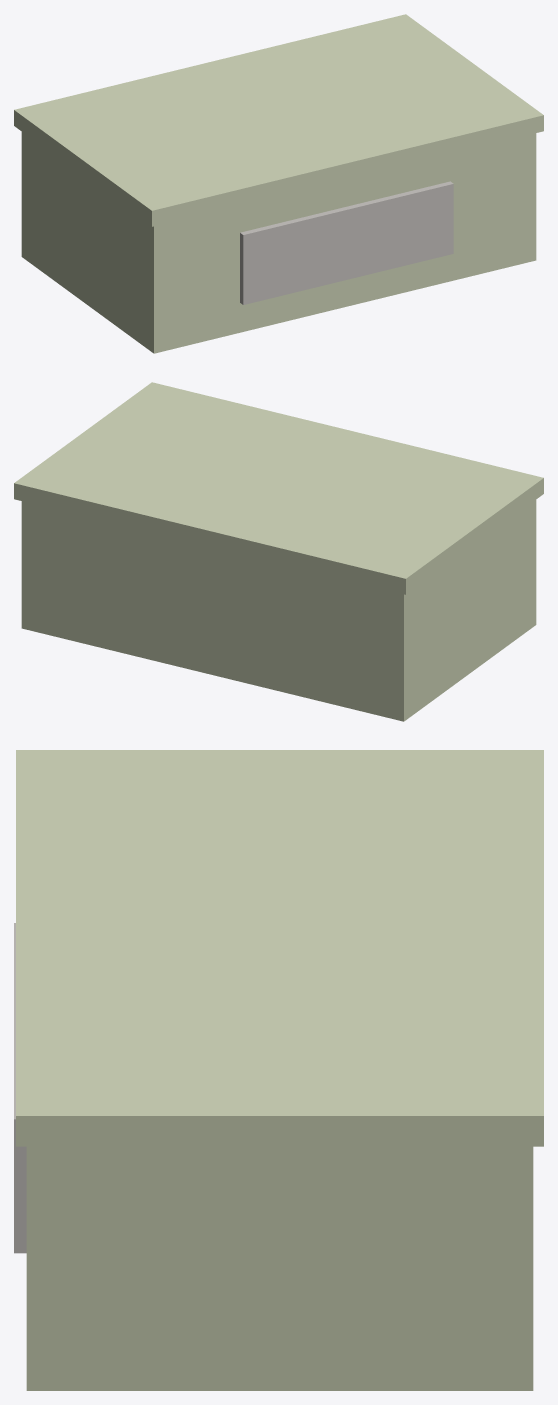
The model's file is boite_a_vis.glb.
3 renders of one model, top to bottom at view 1: azimuth 30°, elevation 25°; view 2: azimuth 150°, elevation 25°; view 3: azimuth 270°, elevation 25°, orthographic. The views are drawn at different scales.
Parts seen in each view (by area): view 1: bois, etiquette; view 2: bois; view 3: bois, etiquette.
Part boxes in pixels (x1,y1,x2,y2): bois: [14, 14, 543, 353]; etiquette: [240, 181, 453, 304]; bois: [14, 382, 543, 721]; bois: [16, 750, 543, 1390]; etiquette: [14, 923, 26, 1253].
Size of the model in its own units: 0.205 by 0.073 by 0.1255.
